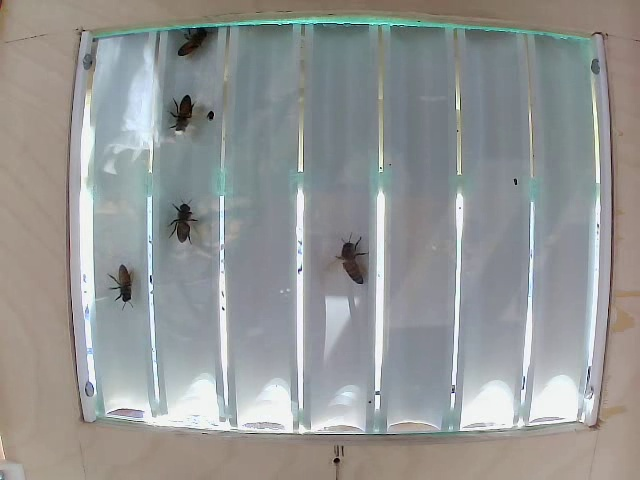bee: (326, 237, 378, 290), (98, 260, 147, 311), (174, 87, 212, 138), (175, 28, 216, 68), (174, 202, 205, 249)
